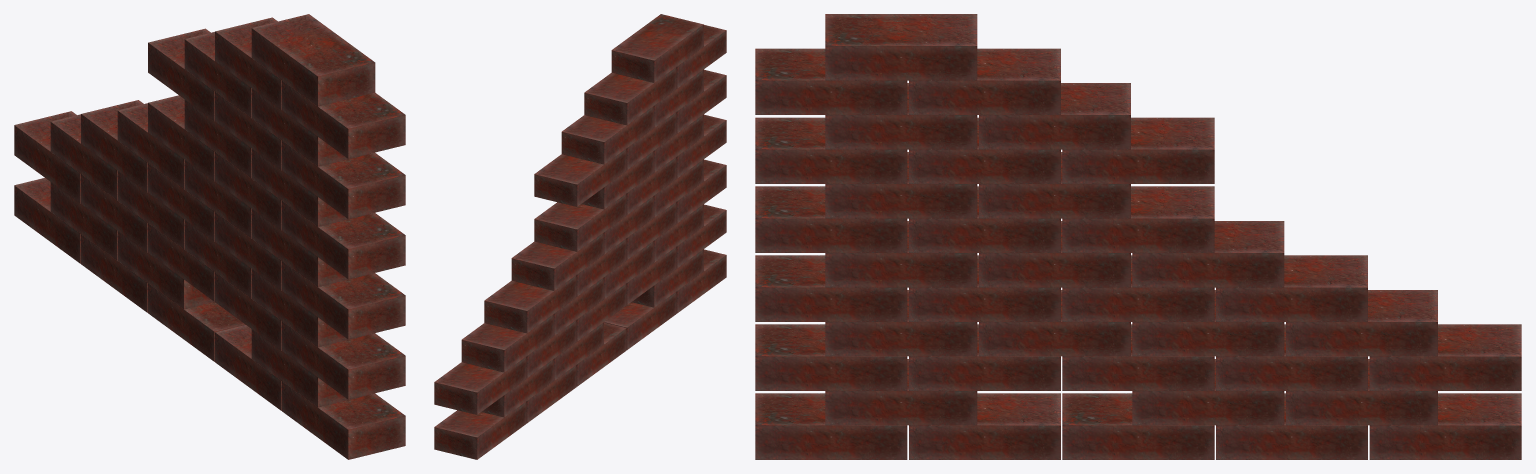
File: brickWallOldDestroy.fbx
3 renders of one model, left to right at view 1: azimuth 30°, elevation 25°; view 2: azimuth 150°, elevation 25°; view 3: azimuth 270°, elevation 25°, orthographic. The views are drawn at different scales.
Parts seen in each view (by area): view 1: brick; view 2: brick; view 3: brick.
Part boxes in pixels (left/top/right/bottom): brick: left=14, top=14, right=405, bottom=459; brick: left=434, top=14, right=726, bottom=459; brick: left=755, top=14, right=1521, bottom=459.
Size of the model in its own units: 12.7 by 76.31 by 128.
